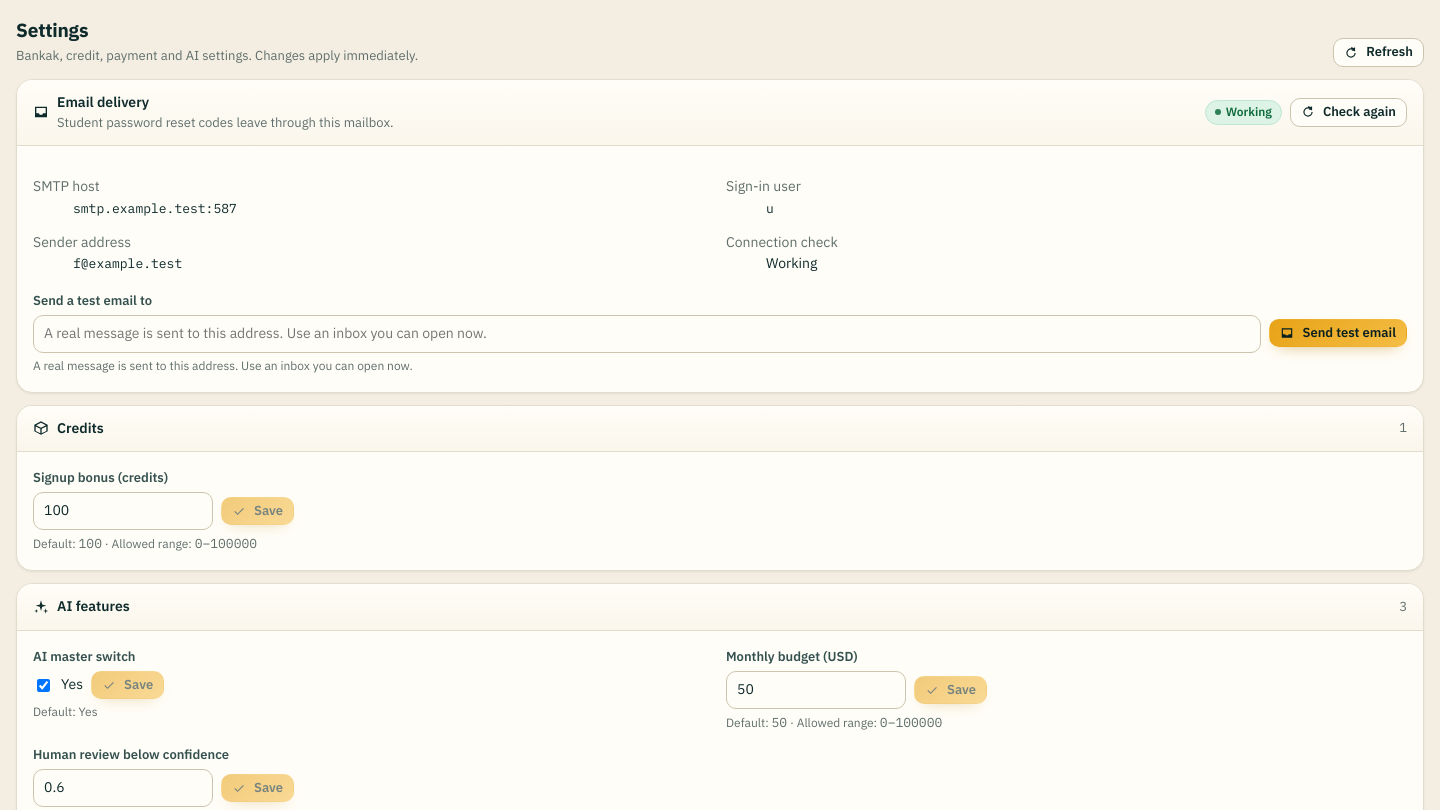
Scenario: SettingsPage AI rows › saves a real boolean when the toggle is flipped
Click the checkbox labelled "AI master switch" at [44, 685], box [37, 679, 50, 692]
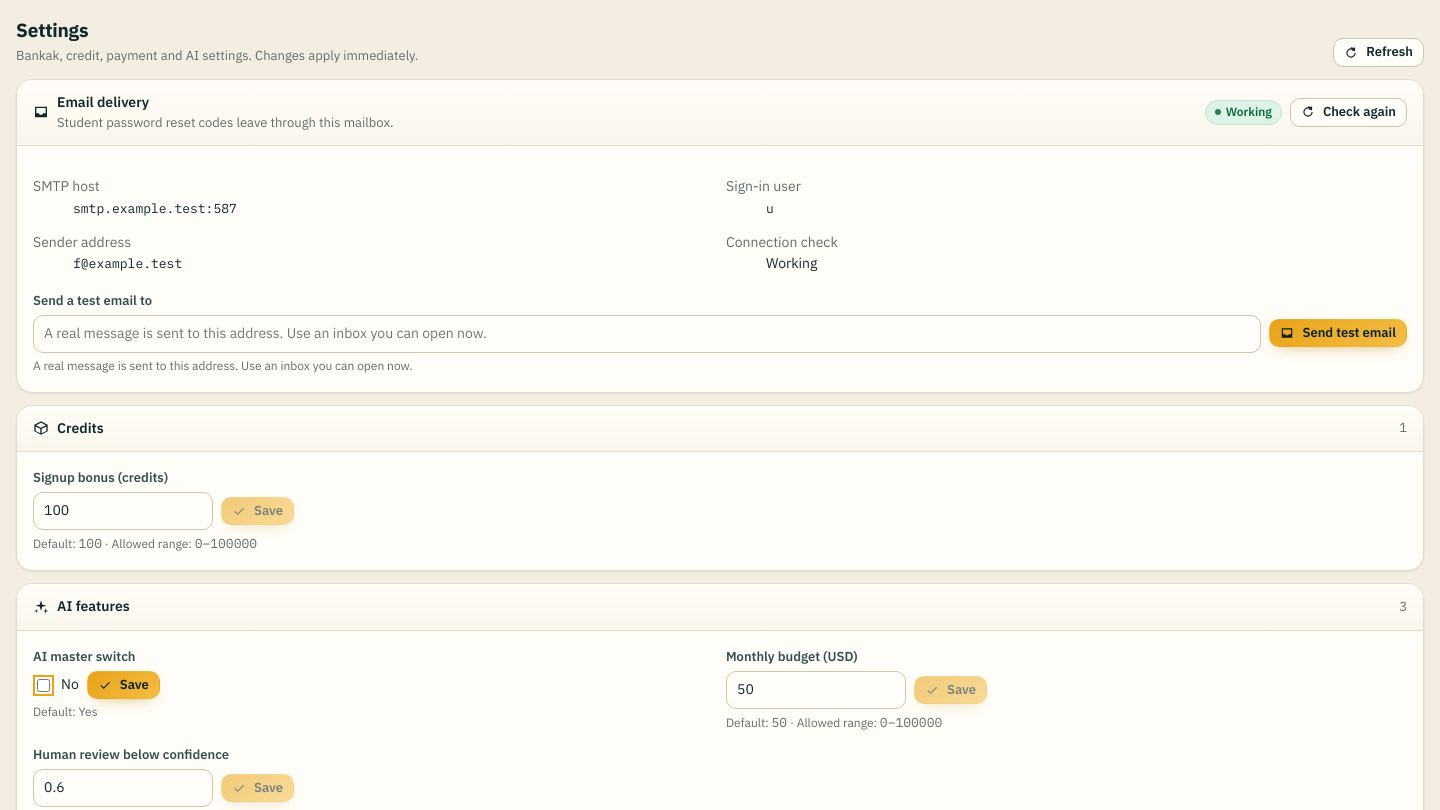
Expected: the checkbox labelled "AI master switch" is not checked, [37, 679, 50, 692]
Click the button "Save" below "AI master switch" at [123, 685], box [87, 671, 160, 699]
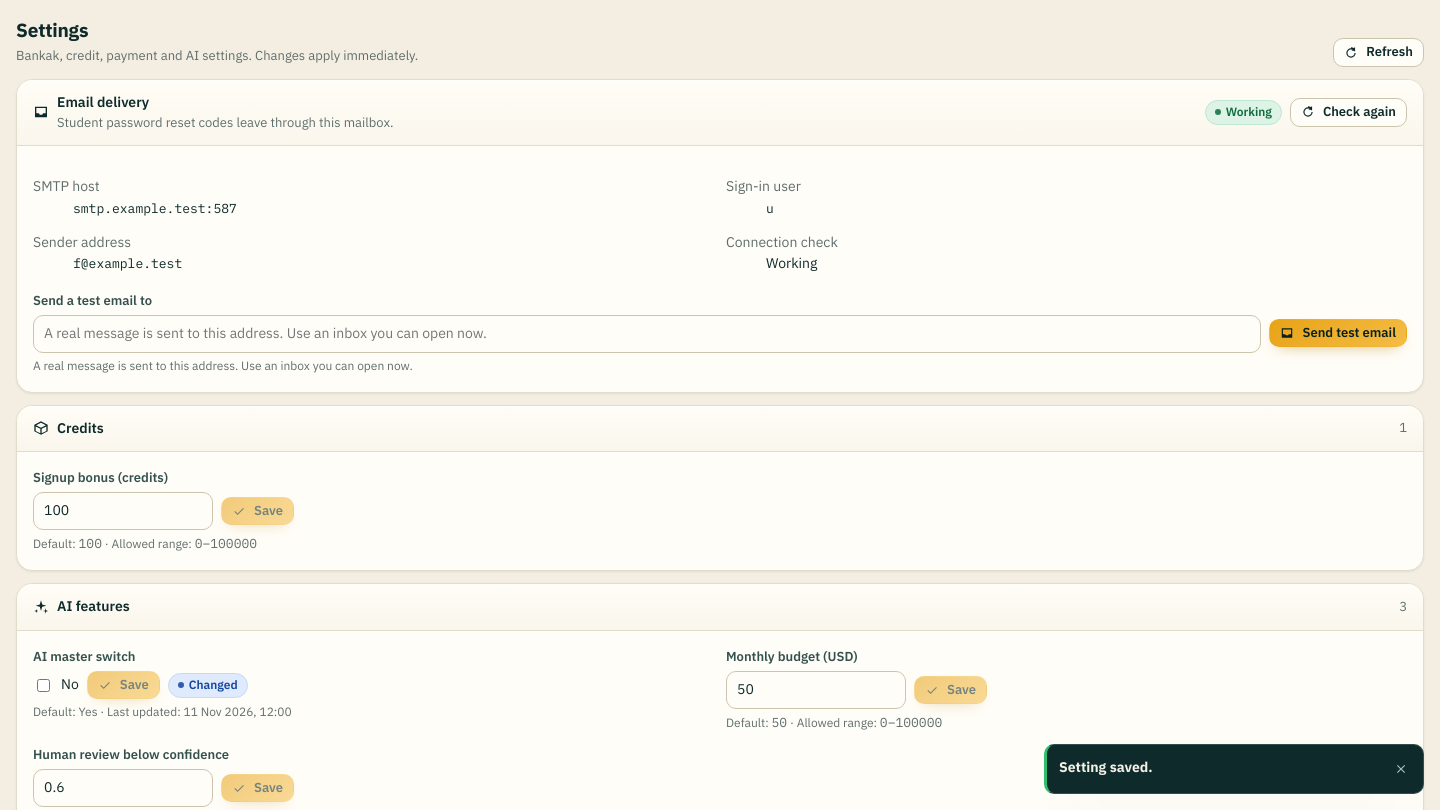
Expected: the text "Setting saved." is shown, [1059, 757, 1153, 778]
